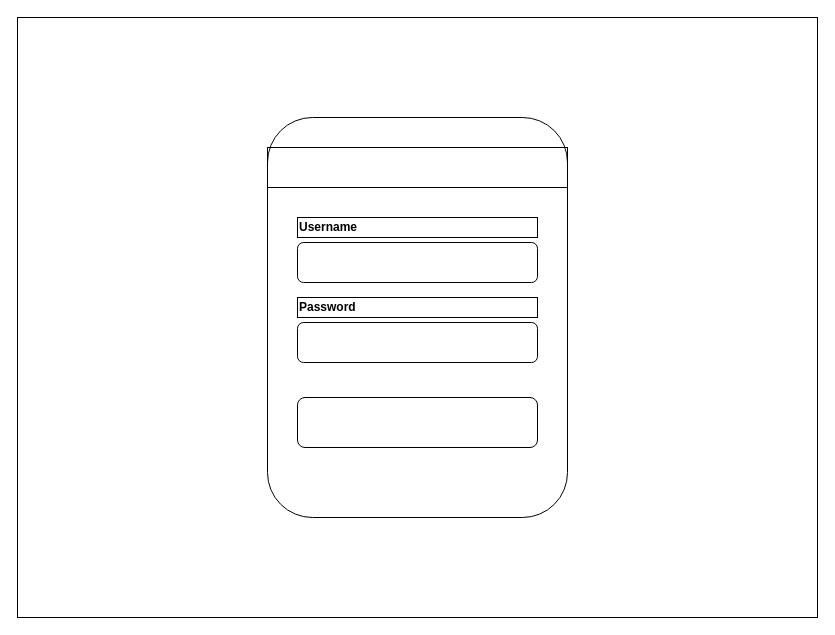
The diagram is 835 pixels wide and 635 high, and some of its shapes have lost their labels. The shapes that lost their labels are listed below. From the top down, each one's centre as x and y in pixels, then its label:
At pixel 417 167: "Admin".
At pixel 417 422: "Masuk ke Panel".
